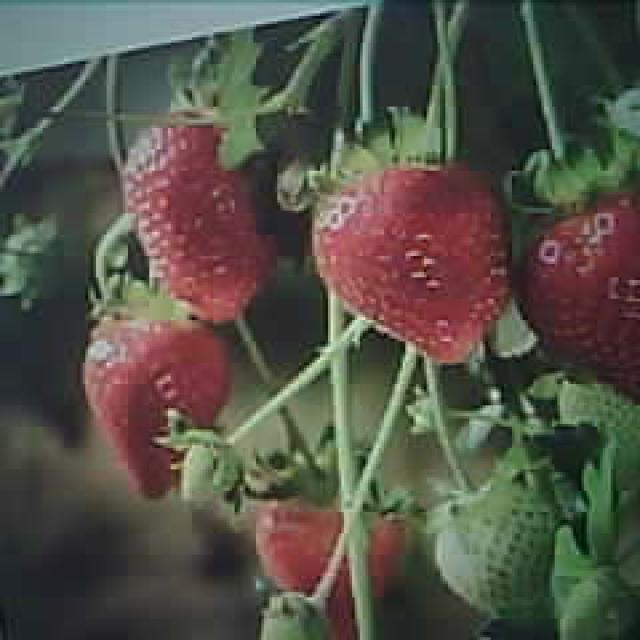ripe: (320, 158, 512, 356), (122, 112, 278, 322), (86, 321, 228, 500)
unripe: (435, 478, 565, 622), (181, 436, 242, 506)
